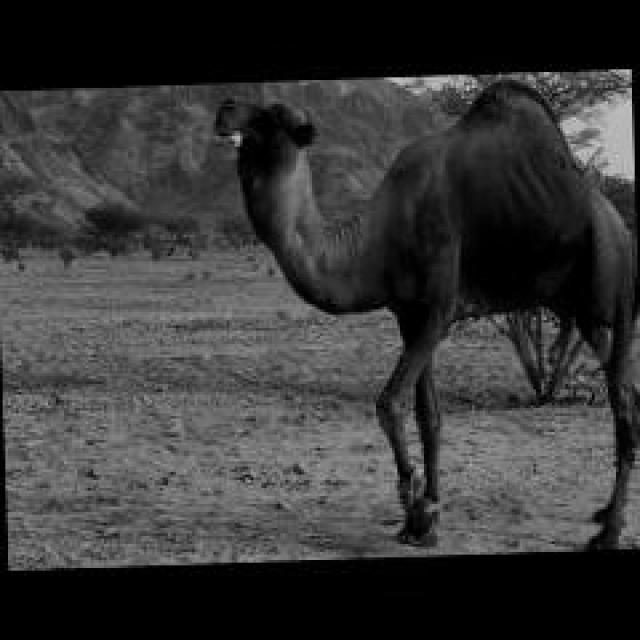Camel: (211, 77, 637, 547)
